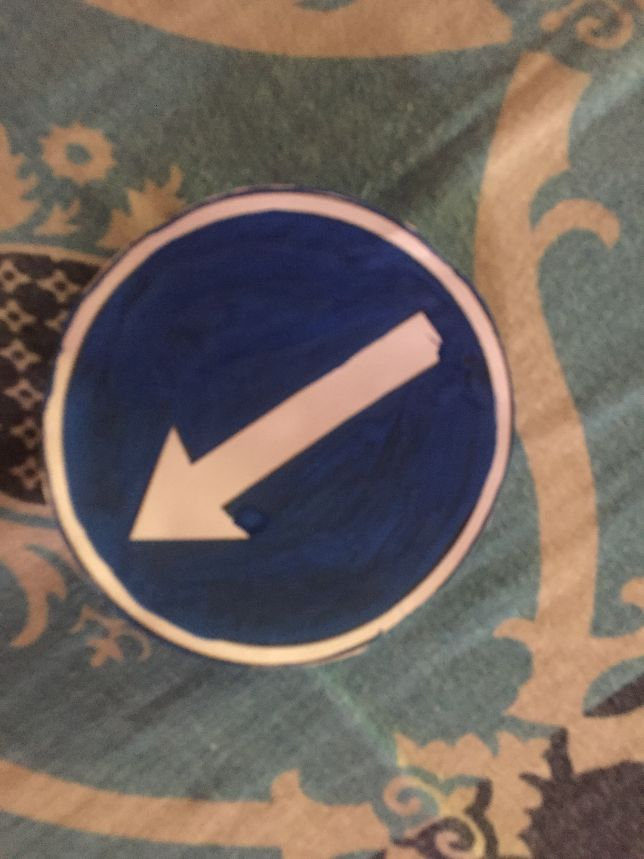go-stright: (40, 194, 508, 662)
